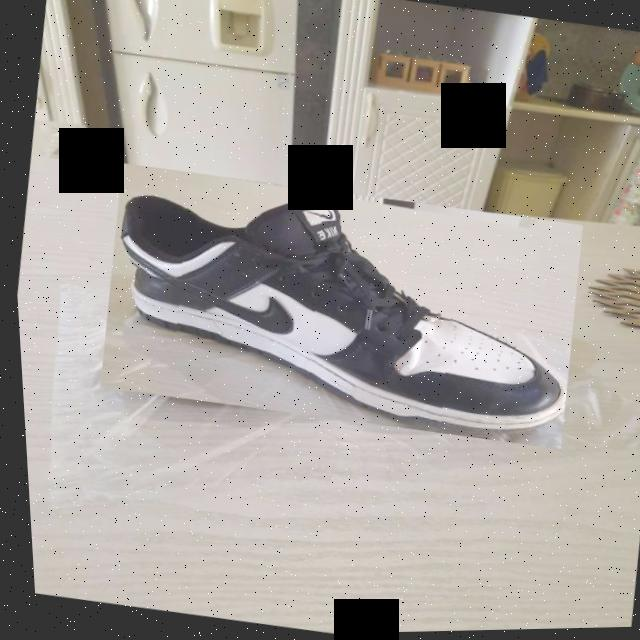shoe: (85, 156, 590, 460)
